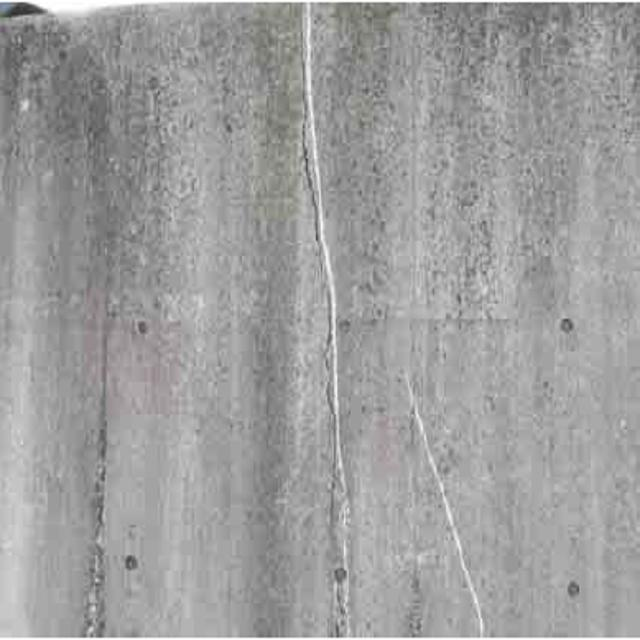crack: (283, 10, 358, 640)
